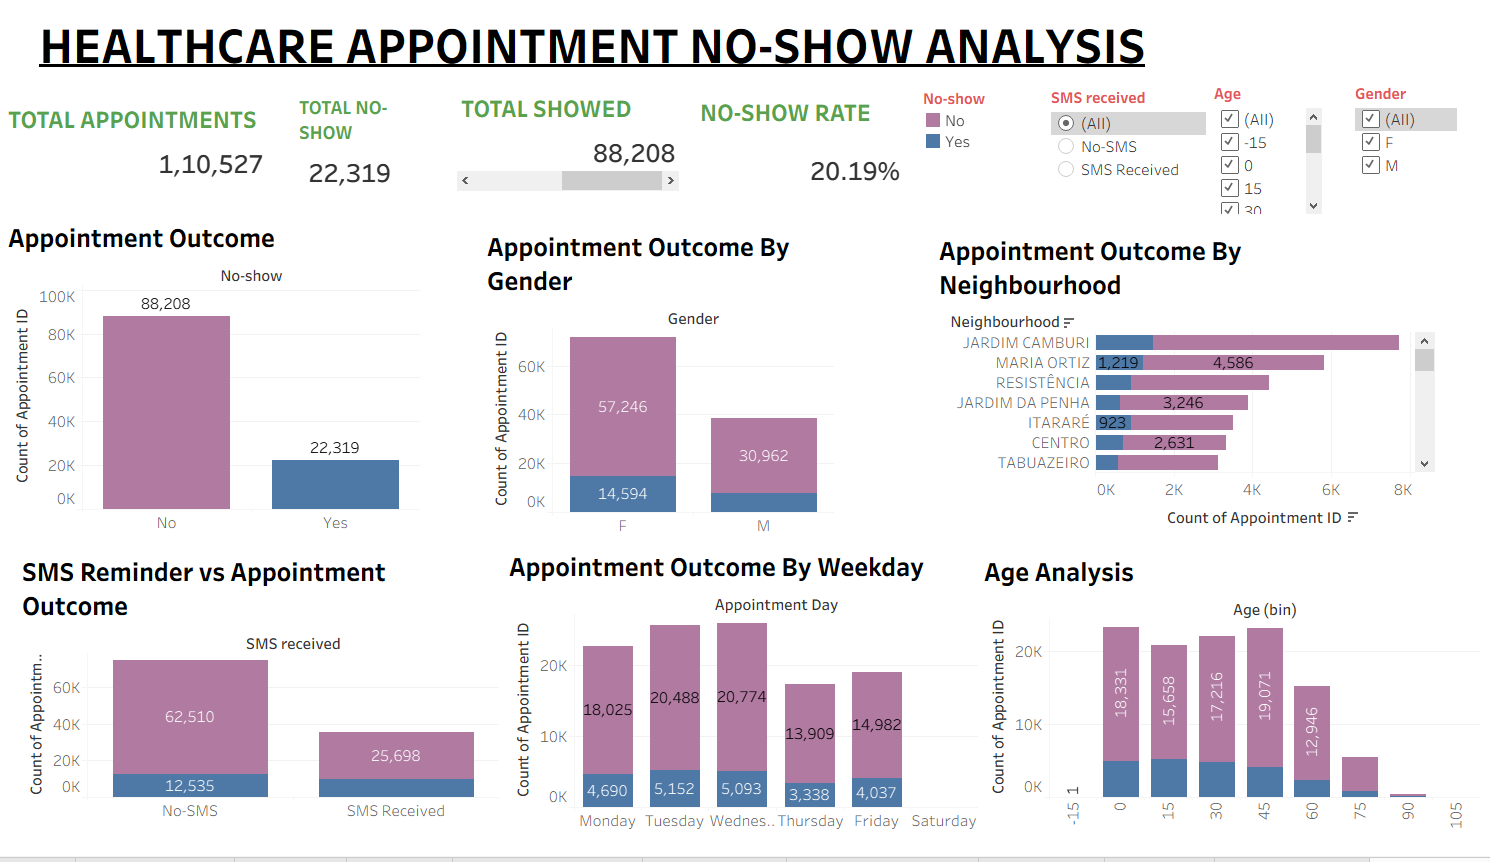

Layout of this report page (visuals, bound fields, positions):
{"tool":"tableau","page":{"name":"Dashboard 1","canvas":[1000,1000],"units":"permille","ordinal":0},"visuals":[{"type":"text","box":[27.5,21.2,935.8,111.2]},{"type":"filter","title":"Age Analysis","param":"[federated.14jn1fy0vo3b8w1agwql81xh67hw].[none:Age (bin):ok]","box":[812.7,103.2,72,152]},{"type":"filter","title":"Appointment Outcome","param":"[federated.14jn1fy0vo3b8w1agwql81xh67hw].[none:Gender:nk]","box":[906.7,103.2,68,114.9]},{"type":"filter","title":"SMS Analysis","param":"[federated.14jn1fy0vo3b8w1agwql81xh67hw].[none:SMS_received:ok]","box":[704,107.9,103.3,120.7]},{"type":"worksheet","title":"KPI - Showed","mark":"Automatic","box":[308,109,148,127.6]},{"type":"legend","title":"Appointment Outcome","param":"[federated.14jn1fy0vo3b8w1agwql81xh67hw].[none:No-show:nk]","box":[618.7,109,84.7,85.9]},{"type":"worksheet","title":"KPI - No-Shows","mark":"Automatic","box":[200,111.4,104.7,129.9]},{"type":"worksheet","title":"KPI - No-Show Rate","mark":"Automatic","box":[467.3,113.7,139.3,127.6]},{"type":"worksheet","title":"KPI- Total Appointments","mark":"Automatic","box":[6,121.8,175.3,106.7]},{"type":"worksheet","title":"Appointment Outcome","mark":"Automatic","rows":["AppointmentID"],"cols":["No-show"],"box":[5.8,257.5,277.5,368.8]},{"type":"worksheet","title":"No-Show By Gender","mark":"Automatic","rows":["AppointmentID"],"cols":["Gender"],"box":[325,267.5,234.2,362.5]},{"type":"worksheet","title":"Neighbourhood Analysis","mark":"Automatic","rows":["Neighbourhood"],"cols":["AppointmentID"],"box":[626.7,272.5,333.3,355]},{"type":"worksheet","title":"Weekday Analysis","mark":"Automatic","rows":["AppointmentID"],"cols":["AppointmentDay"],"box":[340,638.8,315,332.5]},{"type":"worksheet","title":"SMS Analysis","mark":"Automatic","rows":["AppointmentID"],"cols":["SMS_received"],"box":[15,645,320.8,332.5]},{"type":"worksheet","title":"Age Analysis","mark":"Automatic","rows":["AppointmentID"],"cols":["Age (bin)"],"box":[656.7,645,333.3,332.5]}]}

Visuals, with their boxes on the dashboard's canvas, which has no fixed pixel size, in thousandths of its width and height (x1, y1, x2, y2). These are canvas units, not pixel positions in the 1490x862 screenshot, which may show the page scaled, cropped or inside an application window:
text: detection(28, 21, 963, 132)
"Age Analysis" filter: detection(813, 103, 885, 255)
"Appointment Outcome" filter: detection(907, 103, 975, 218)
"SMS Analysis" filter: detection(704, 108, 807, 229)
"KPI - Showed" worksheet: detection(308, 109, 456, 237)
"Appointment Outcome" legend: detection(619, 109, 703, 195)
"KPI - No-Shows" worksheet: detection(200, 111, 305, 241)
"KPI - No-Show Rate" worksheet: detection(467, 114, 607, 241)
"KPI- Total Appointments" worksheet: detection(6, 122, 181, 228)
"Appointment Outcome" worksheet: detection(6, 258, 283, 626)
"No-Show By Gender" worksheet: detection(325, 268, 559, 630)
"Neighbourhood Analysis" worksheet: detection(627, 272, 960, 628)
"Weekday Analysis" worksheet: detection(340, 639, 655, 971)
"SMS Analysis" worksheet: detection(15, 645, 336, 978)
"Age Analysis" worksheet: detection(657, 645, 990, 978)
